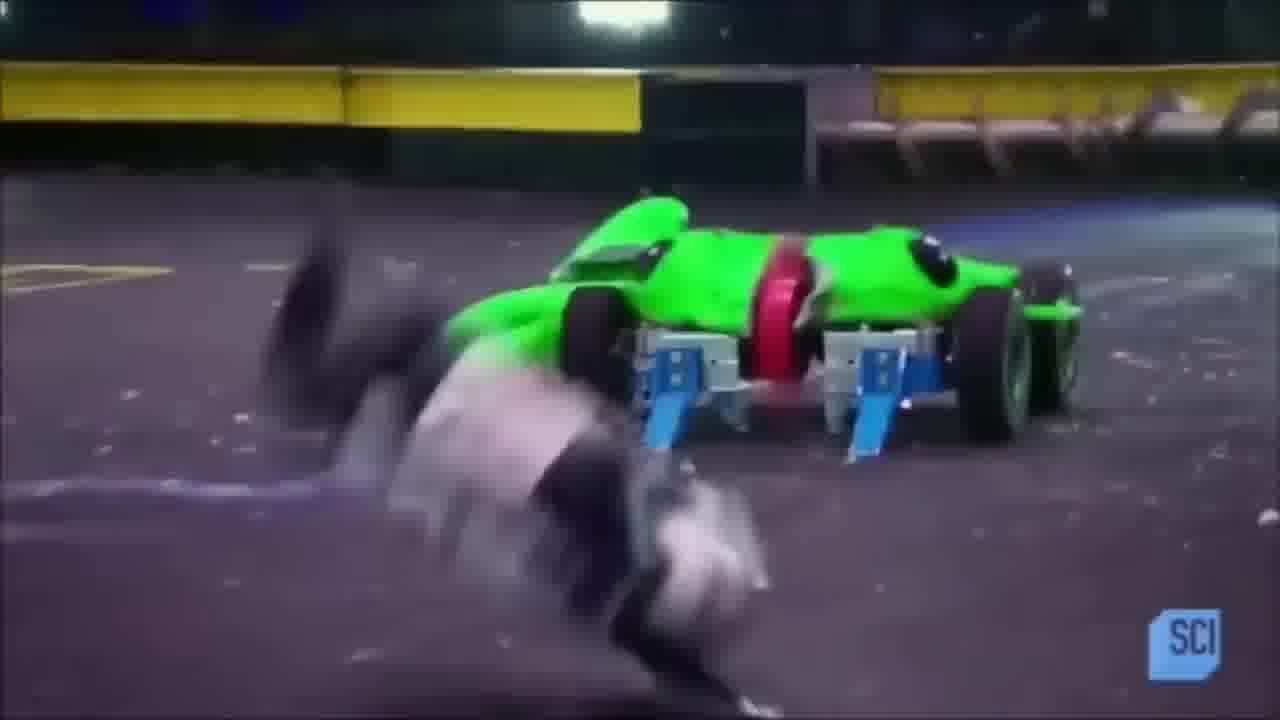combatbot: (261, 232, 792, 717), (441, 197, 1086, 462)
